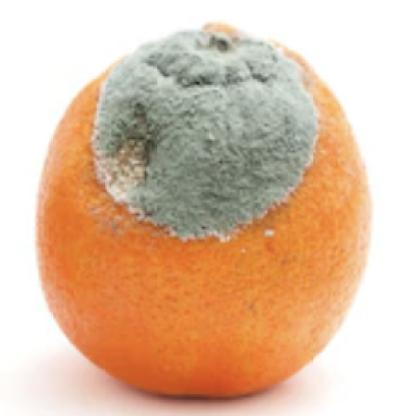rotten: (38, 21, 377, 403)
